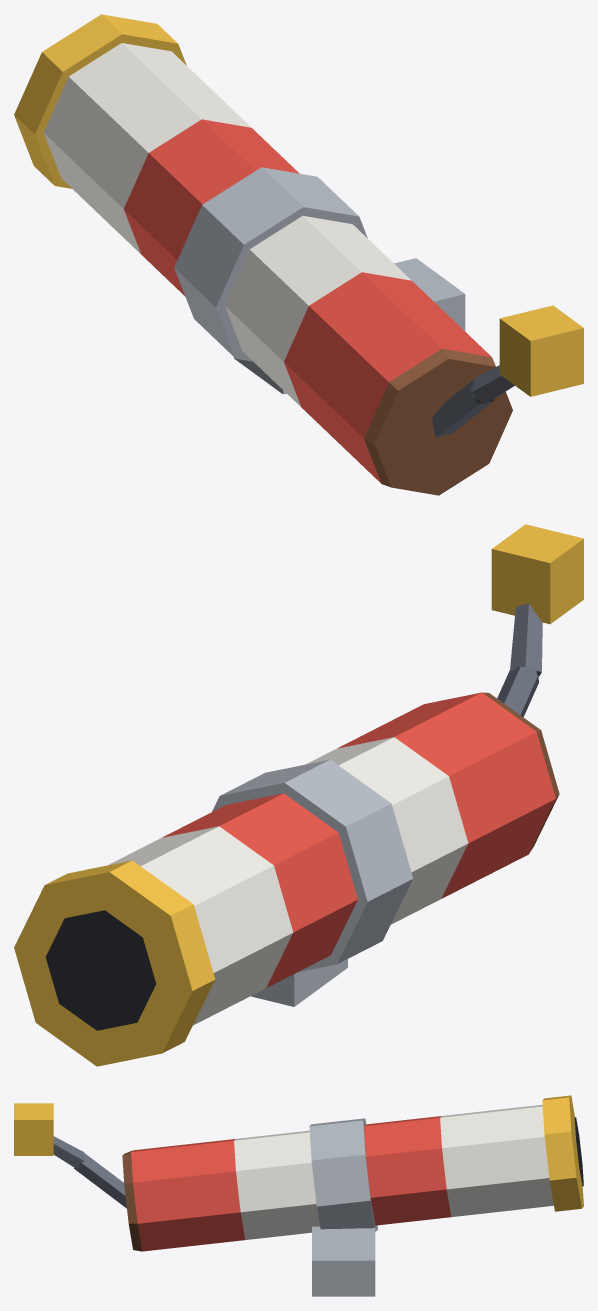
The model's file is G_Firework_1.fbx.
3 views of the same model, one above another, from view 1: azimuth 30°, elevation 25°; view 2: azimuth 150°, elevation 25°; view 3: azimuth 270°, elevation 25° (orthographic). The views are drawn at different scales.
Parts seen in each view (by area): view 1: G_Firework_1; view 2: G_Firework_1; view 3: G_Firework_1.
Boxes of the visible parts, box(x1,y1,x2,y2) form: G_Firework_1: box(14, 14, 583, 495); G_Firework_1: box(14, 524, 583, 1066); G_Firework_1: box(14, 1095, 583, 1296).
Size of the model in its own units: 0.273 by 0.2511 by 0.8525.
